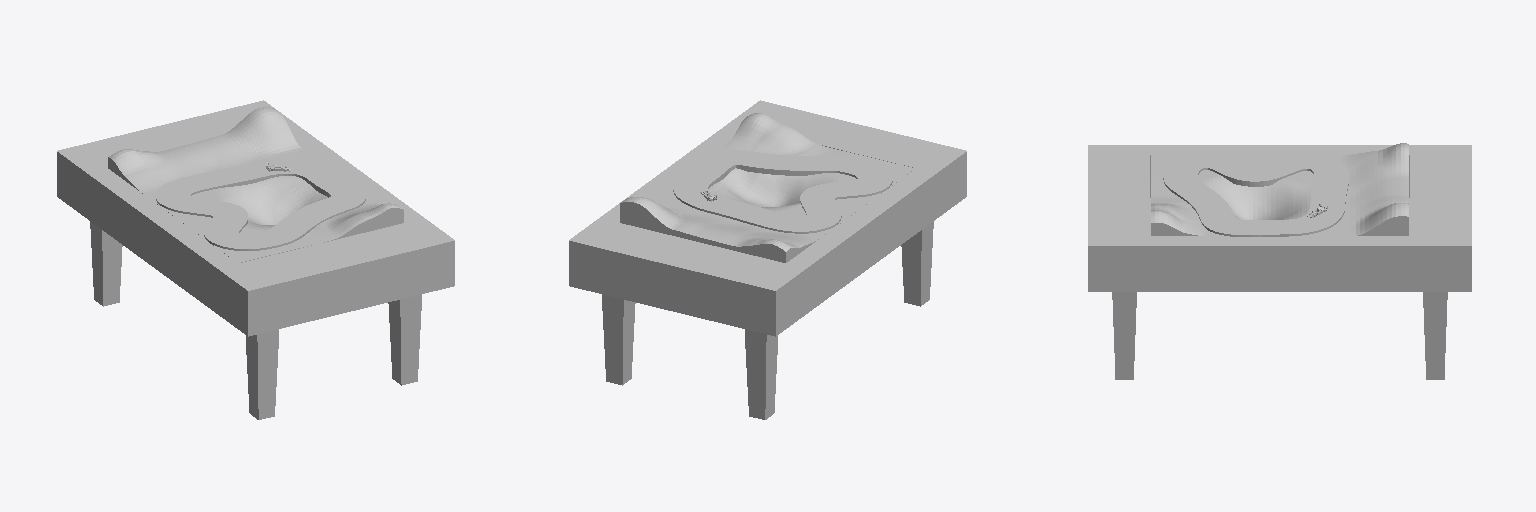
Rendered from NewestTisch12.obj.
3 renders of one model, left to right at view 1: azimuth 30°, elevation 25°; view 2: azimuth 150°, elevation 25°; view 3: azimuth 270°, elevation 25°, orthographic.
Visible parts, largest first — view 1: Tischplatte_wood_table_001, Landschaft_aerial_grass_rock, off, Bein1_wood_table_001, Bein4_wood_table_001.003, Bein3_wood_table_001.002; view 2: Tischplatte_wood_table_001, Landschaft_aerial_grass_rock, off, Bein2_wood_table_001.001, Bein3_wood_table_001.002, Bein4_wood_table_001.003; view 3: Tischplatte_wood_table_001, Landschaft_aerial_grass_rock, off, Bein1_wood_table_001, Bein2_wood_table_001.001.
Part boxes in pixels (x1,y1,x2,y2): Tischplatte_wood_table_001: (57, 100, 454, 336); Landschaft_aerial_grass_rock: (108, 107, 403, 262); off: (156, 159, 365, 250); Bein1_wood_table_001: (388, 294, 421, 385); Bein4_wood_table_001.003: (246, 329, 278, 419); Bein3_wood_table_001.002: (90, 221, 122, 306); Tischplatte_wood_table_001: (569, 100, 966, 336); Landschaft_aerial_grass_rock: (620, 113, 915, 262); off: (673, 150, 892, 233); Bein2_wood_table_001.001: (602, 294, 635, 385); Bein3_wood_table_001.002: (745, 329, 777, 419); Bein4_wood_table_001.003: (901, 221, 933, 306); Tischplatte_wood_table_001: (1088, 145, 1471, 291); Landschaft_aerial_grass_rock: (1151, 143, 1408, 235); off: (1163, 153, 1348, 236); Bein1_wood_table_001: (1112, 292, 1136, 379); Bein2_wood_table_001.001: (1423, 292, 1447, 379).
Size of the model in its own units: 5 by 3.91 by 8.